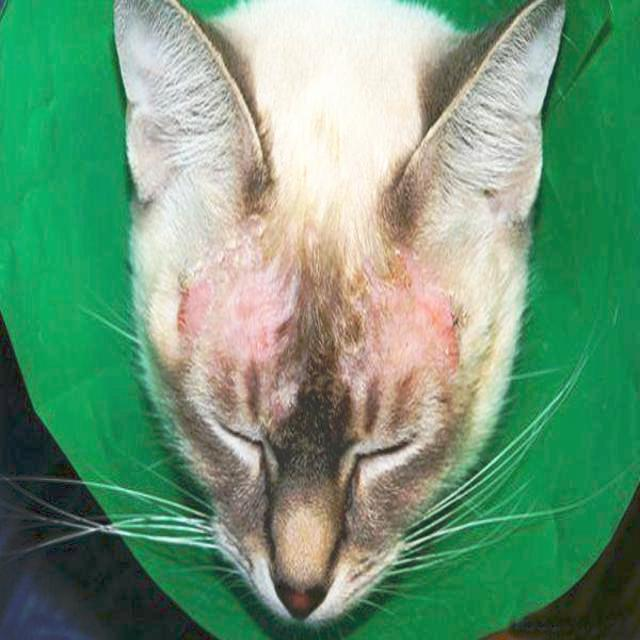ringworm: (178, 260, 286, 364), (367, 284, 465, 382)
